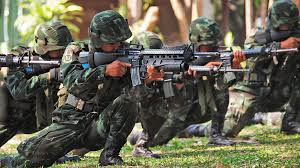gun: (76, 41, 198, 88), (204, 43, 300, 84), (1, 51, 63, 78)
helmet: (87, 9, 134, 49), (32, 20, 74, 55), (187, 15, 222, 45), (266, 1, 300, 31)
